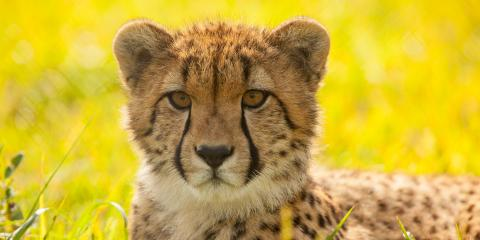Cheetah: (110, 21, 479, 239)
